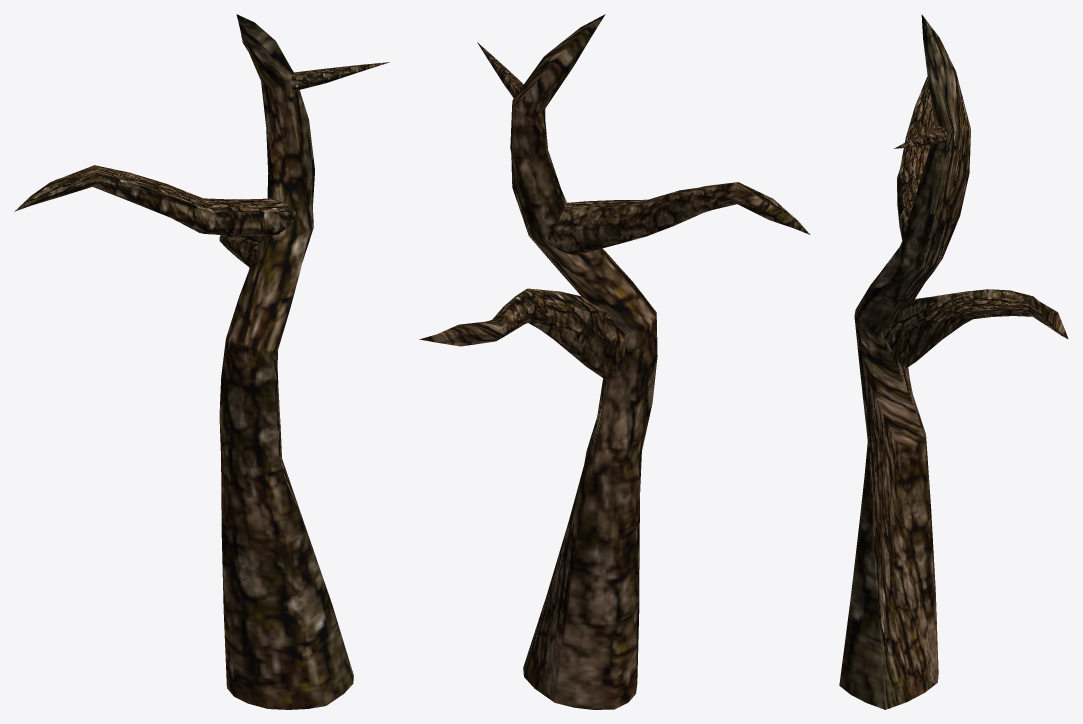
File: tree1.obj
3 renders of one model, left to right at view 1: azimuth 30°, elevation 25°; view 2: azimuth 150°, elevation 25°; view 3: azimuth 270°, elevation 25°, orthographic. The views are drawn at different scales.
Visible parts, largest first — view 1: ColobotMesh_1.002_ColobotMesh_.002, ColobotMesh_1.003_ColobotMesh_.003, ColobotMesh_1.001_ColobotMesh_.001, ColobotMesh_1_ColobotMesh_; view 2: ColobotMesh_1.002_ColobotMesh_.002, ColobotMesh_1.003_ColobotMesh_.003, ColobotMesh_1_ColobotMesh_, ColobotMesh_1.001_ColobotMesh_.001; view 3: ColobotMesh_1.002_ColobotMesh_.002, ColobotMesh_1_ColobotMesh_, ColobotMesh_1.003_ColobotMesh_.003, ColobotMesh_1.001_ColobotMesh_.001.
Part boxes in pixels (left/top/right/bottom): ColobotMesh_1.002_ColobotMesh_.002: left=219, top=14, right=353, bottom=709; ColobotMesh_1.003_ColobotMesh_.003: left=14, top=165, right=295, bottom=243; ColobotMesh_1.001_ColobotMesh_.001: left=290, top=62, right=389, bottom=90; ColobotMesh_1_ColobotMesh_: left=219, top=235, right=258, bottom=268; ColobotMesh_1.002_ColobotMesh_.002: left=510, top=14, right=657, bottom=709; ColobotMesh_1.003_ColobotMesh_.003: left=547, top=182, right=810, bottom=255; ColobotMesh_1_ColobotMesh_: left=419, top=288, right=625, bottom=379; ColobotMesh_1.001_ColobotMesh_.001: left=477, top=42, right=523, bottom=97; ColobotMesh_1.002_ColobotMesh_.002: left=839, top=14, right=970, bottom=709; ColobotMesh_1_ColobotMesh_: left=882, top=289, right=1068, bottom=369; ColobotMesh_1.003_ColobotMesh_.003: left=897, top=76, right=935, bottom=240; ColobotMesh_1.001_ColobotMesh_.001: left=894, top=126, right=947, bottom=148.
Size of the model in its own units: 24.47 by 44.86 by 14.36.
